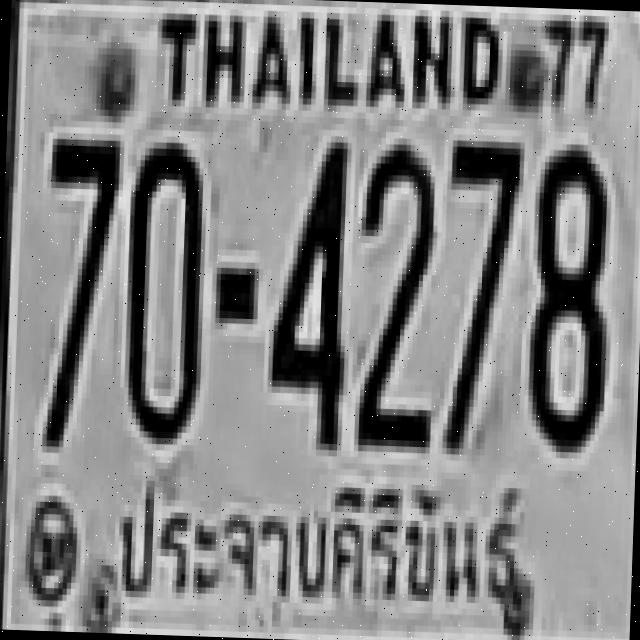0: (120, 135, 206, 439)
2: (350, 152, 436, 444), (354, 140, 436, 419)
4: (266, 134, 348, 444)
7: (438, 134, 520, 444), (38, 132, 116, 436), (440, 134, 520, 406), (40, 132, 116, 386), (442, 134, 520, 352), (42, 135, 116, 334), (442, 136, 520, 324), (42, 132, 116, 313)
8: (522, 140, 608, 450)
PrachuapKhiriKhan: (96, 463, 534, 623)
